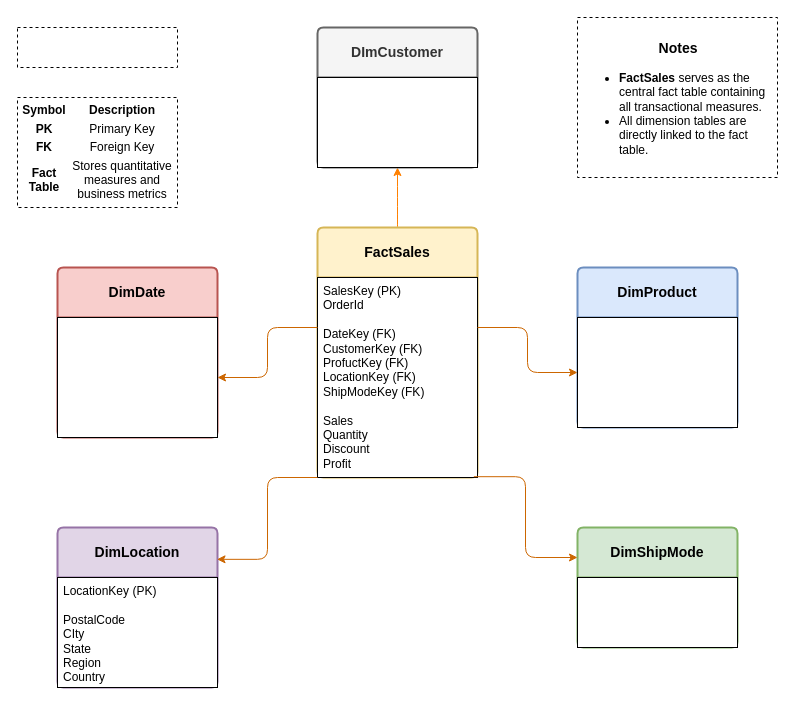
This 795x706 diagram has some shape labels left out. The shapes that lost their labels are listed below. From the top down, each one's centre as x and y in pixels, then its label:
At point 97,47: "Star Schema".
At point 397,122: "CustomerKey (PK) CustomerID CustomerName Segment".
At point 137,377: "DateKey (PK) FullDate Day Month Quarter Year".
At point 657,372: "ProductKey (PK) ProductID ProductName Categry SubCategory".
At point 657,612: "ShipModeKey (PK) ShipMode".
